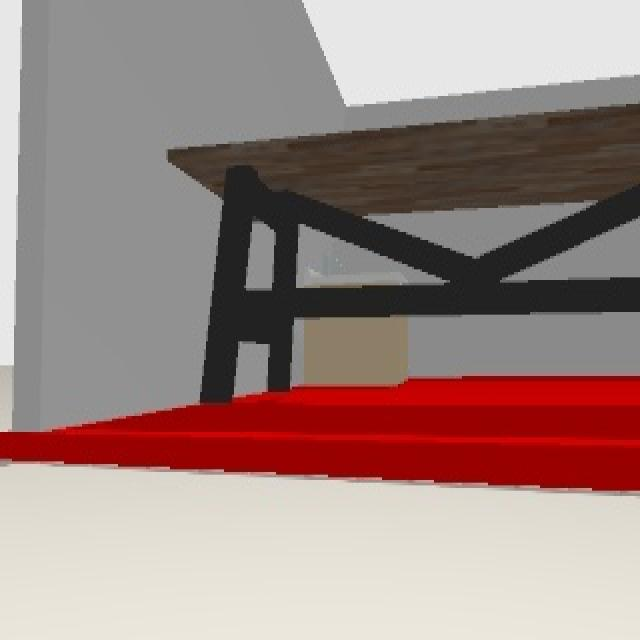dining: (172, 101, 640, 398)
